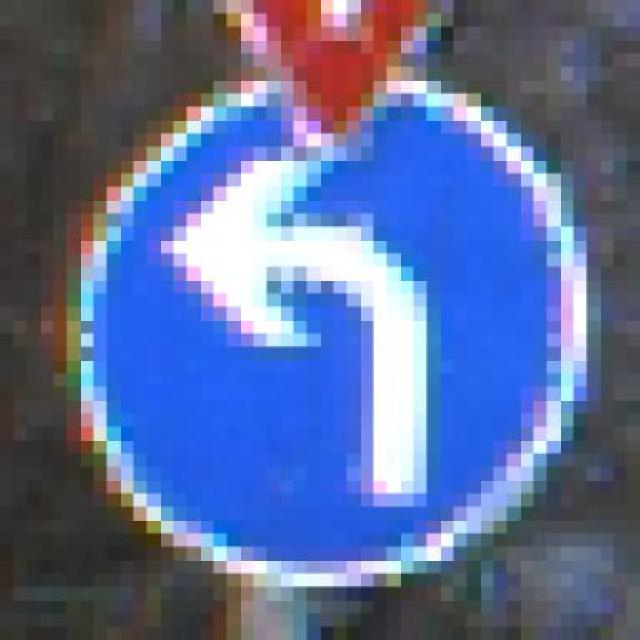Turn left ahead: (67, 39, 587, 587)
